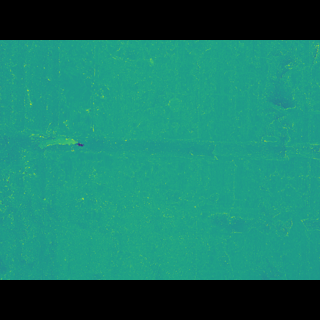Loch: (0, 71, 219, 250), (68, 179, 319, 228), (0, 135, 320, 164)
